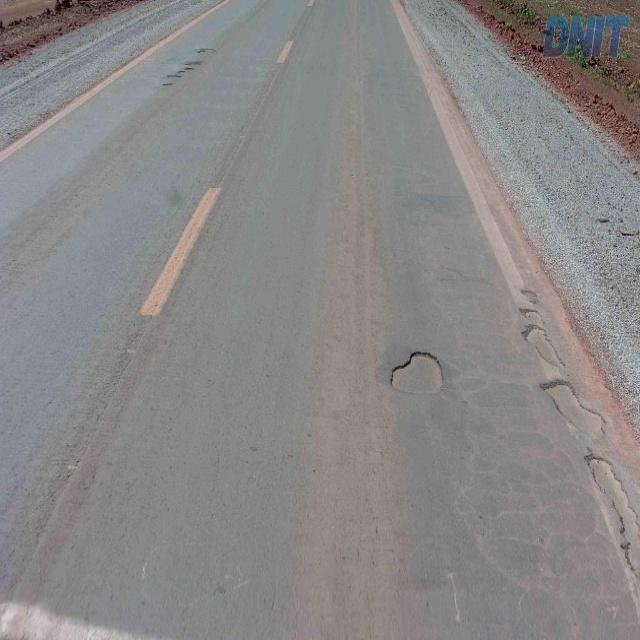pothole: (582, 455, 640, 591), (509, 284, 575, 375), (538, 383, 616, 447), (380, 344, 452, 408)
